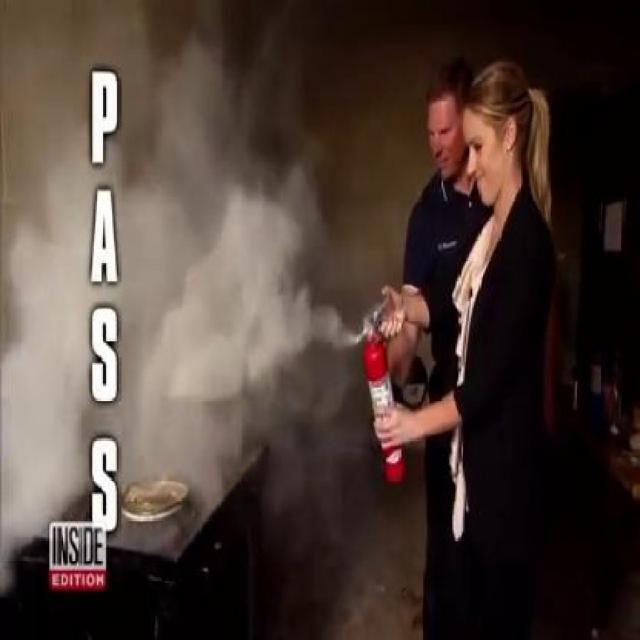smoke: (156, 102, 262, 364), (6, 236, 63, 484)
